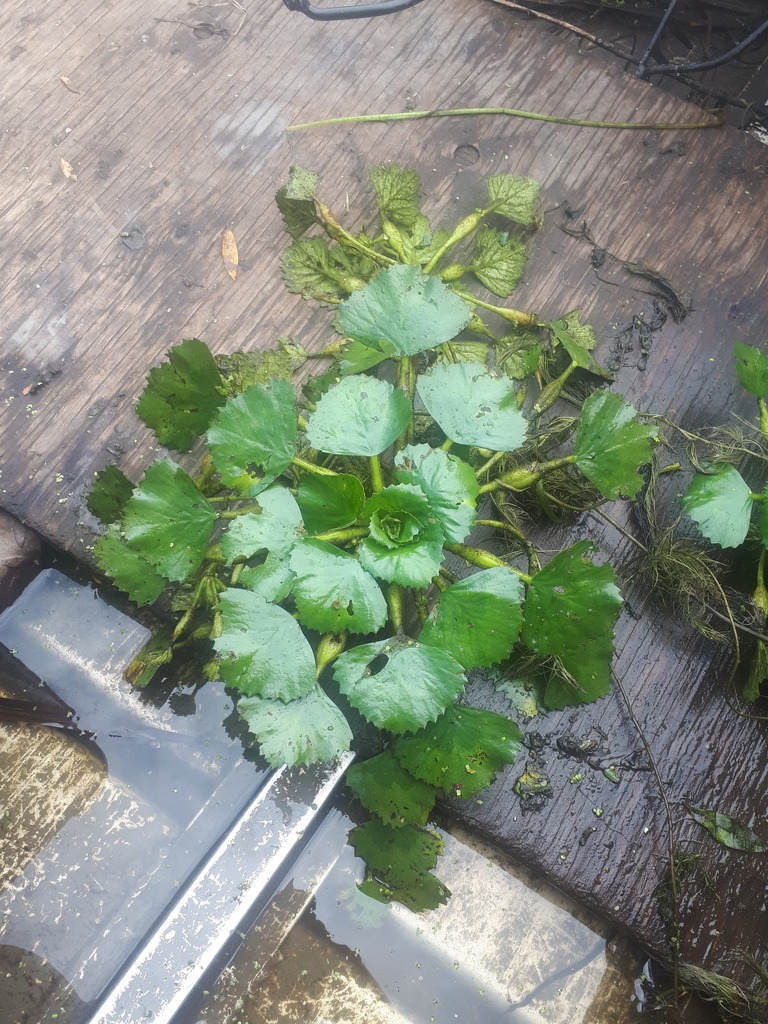water chestnut: (83, 157, 764, 912)
